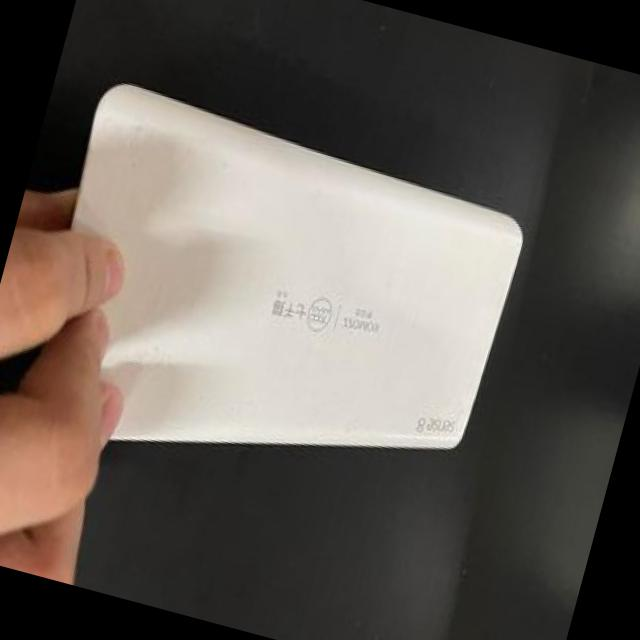portable-charger: (0, 64, 545, 541)
